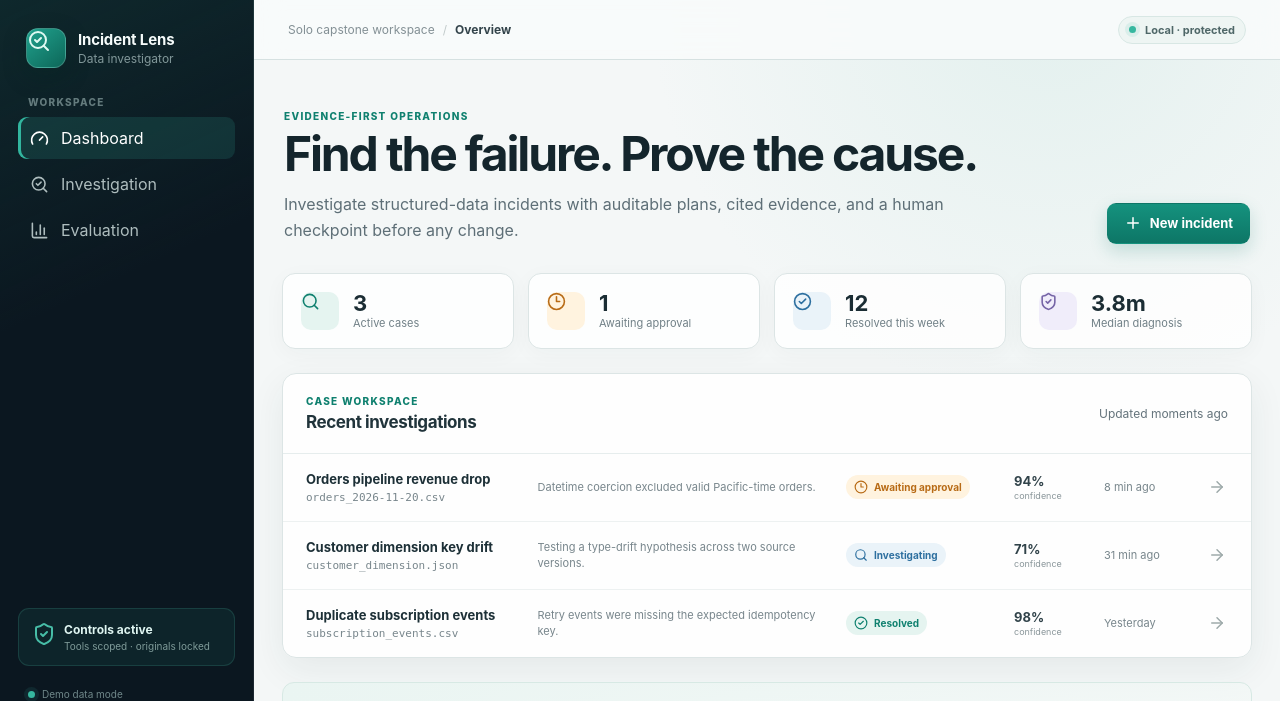
Test: Data Incident Investigator UI › renders the dashboard and opens an accessible incident form
The width and height of the screenshot is (1280, 701).
Expected: the heading "Find the failure. Prove the cause." is shown, x1=284 y1=129 x2=977 y2=179
Click the button "New incident".
click(1178, 223)  # box x1=1107 y1=203 x2=1250 y2=244
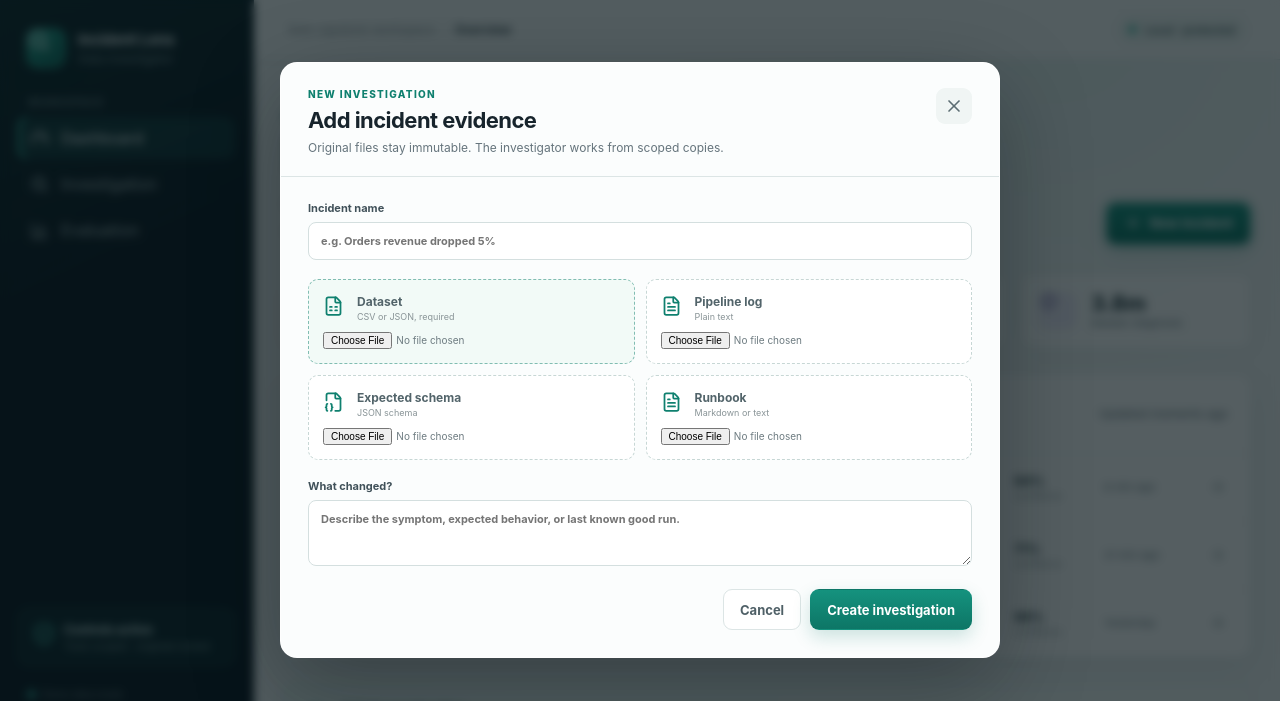
Expected: the dialog "Add incident evidence" is shown, x1=280 y1=62 x2=1000 y2=658
